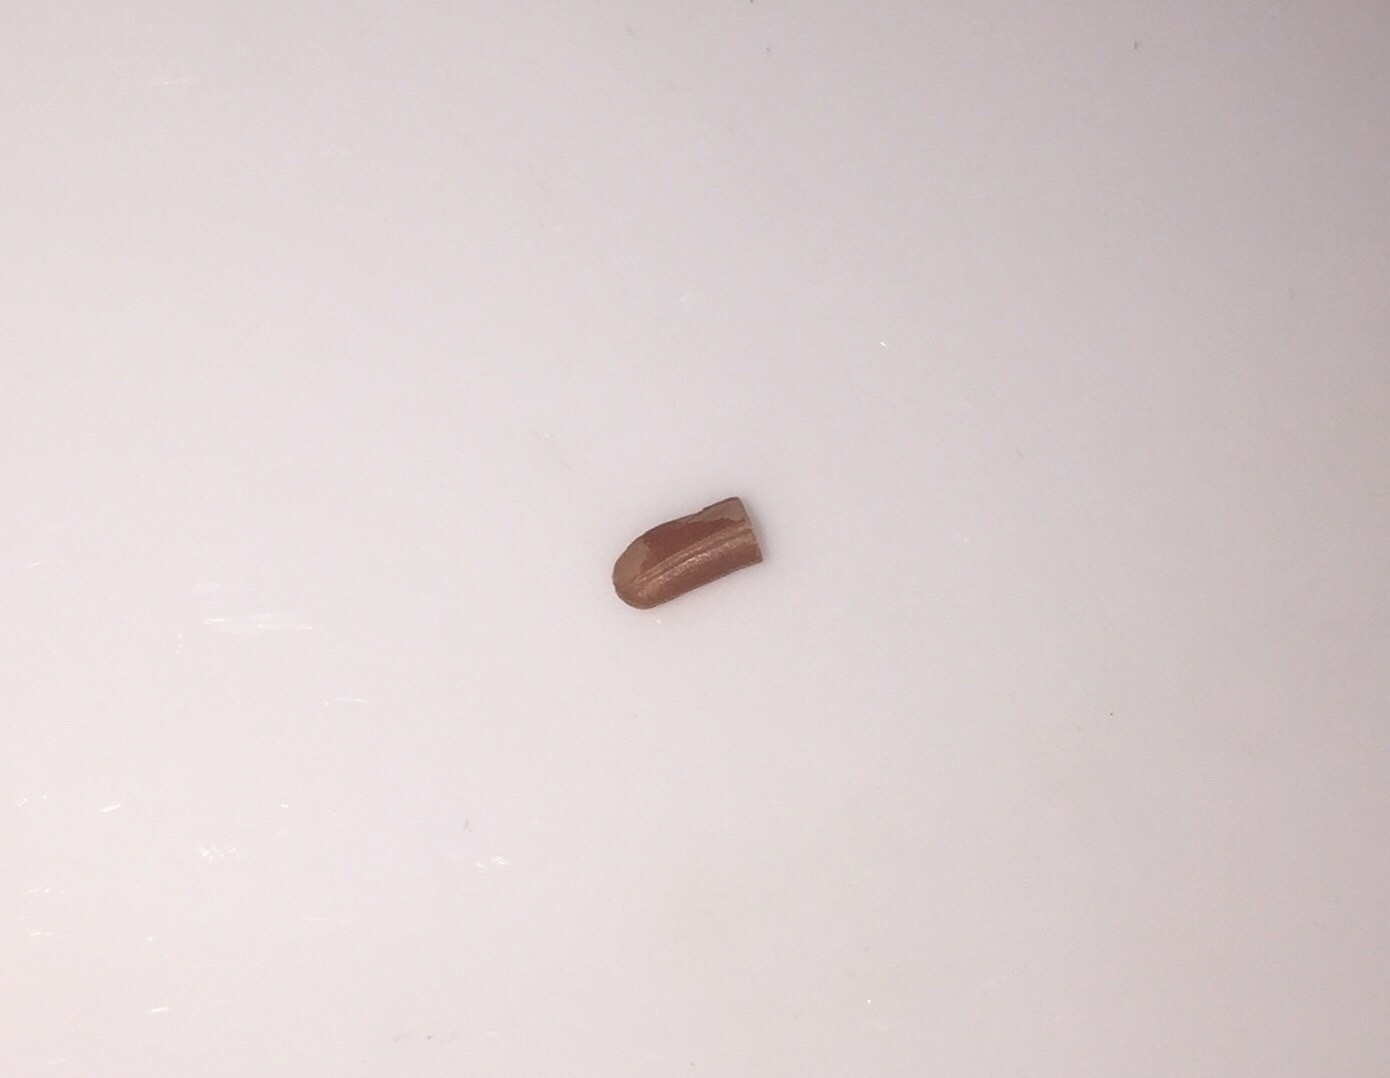Gao Huyet Rong: (601, 496, 773, 617)
